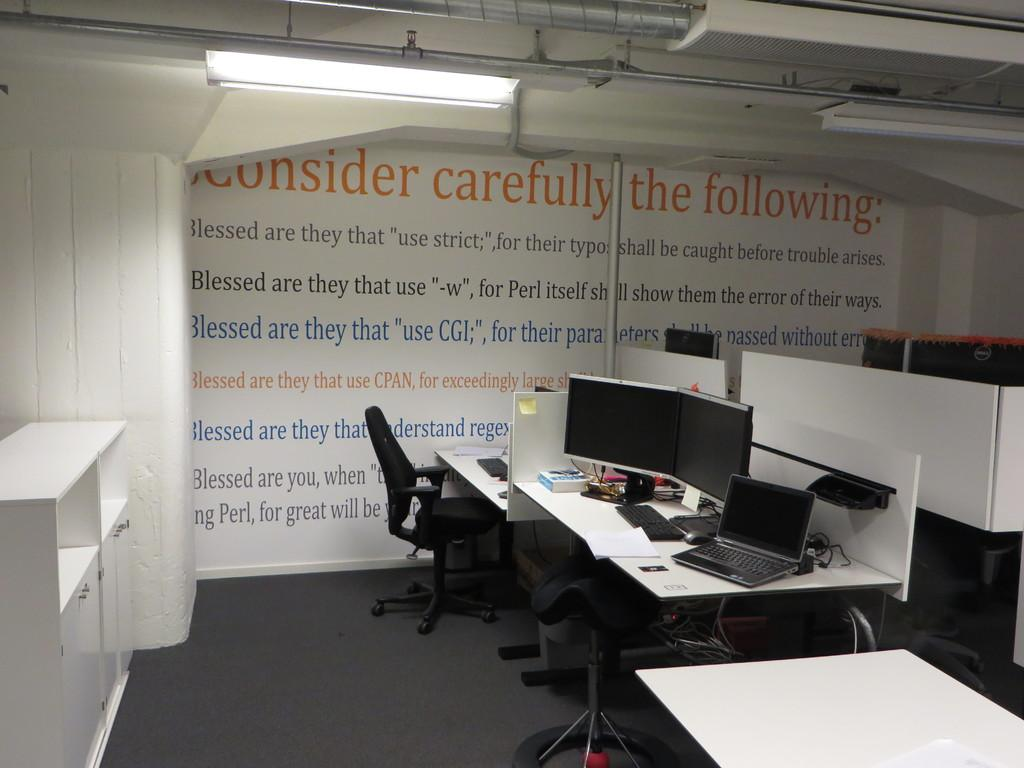Chair: (369, 419, 516, 638)
Computer-monitor: (570, 382, 695, 490), (665, 383, 756, 519), (907, 339, 1023, 389), (659, 321, 727, 368), (858, 332, 908, 372)
